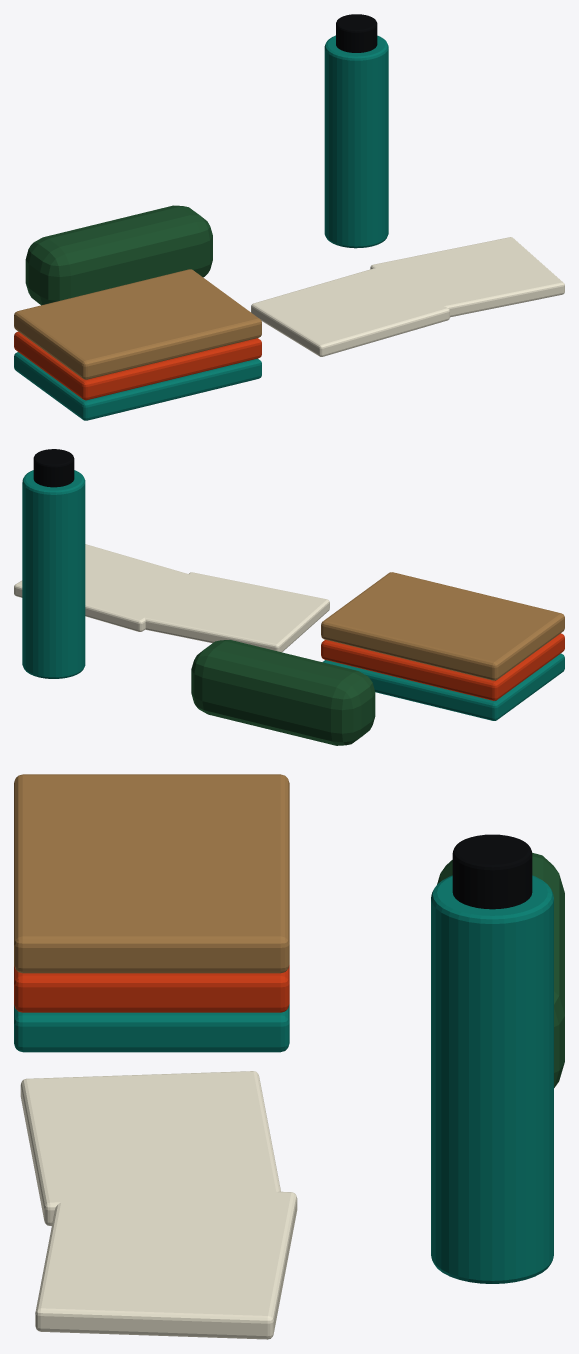
The model's file is SM_DeskProps_Realistic.obj.
3 renders of one model, top to bottom at view 1: azimuth 30°, elevation 25°; view 2: azimuth 150°, elevation 25°; view 3: azimuth 270°, elevation 25°, orthographic. The views are drawn at different scales.
Visible parts, largest first — view 1: Textbook2, Bottle, PencilCase, OpenBookL, OpenBookR, Textbook1, Textbook0, BottleCap; view 2: Textbook2, PencilCase, Bottle, OpenBookL, OpenBookR, Textbook1, Textbook0, BottleCap; view 3: Textbook2, Bottle, OpenBookR, OpenBookL, Textbook0, Textbook1, BottleCap, PencilCase.
Part boxes in pixels (x1,y1,x2,y2): Textbook2: (14,269,261,379); Bottle: (324,35,388,248); PencilCase: (25,205,212,305); OpenBookL: (251,267,449,356); OpenBookR: (370,237,564,317); Textbook1: (14,331,261,400); Textbook0: (14,352,261,420); BottleCap: (336,14,377,52); Textbook2: (321,572,564,680); PencilCase: (191,640,375,745); Bottle: (22,470,85,678); OpenBookL: (144,572,329,652); OpenBookR: (14,544,205,631); Textbook1: (321,633,564,700); Textbook0: (322,653,564,720); BottleCap: (33,449,74,487); Textbook2: (14,774,289,973); Bottle: (431,875,553,1283); OpenBookR: (35,1191,297,1339); OpenBookL: (20,1071,280,1225); Textbook0: (14,1004,289,1052); Textbook1: (14,965,289,1012); BottleCap: (452,834,532,909); PencilCase: (437,852,564,1087).
Size of the model in its own units: 1.52 by 0.625 by 0.76.
